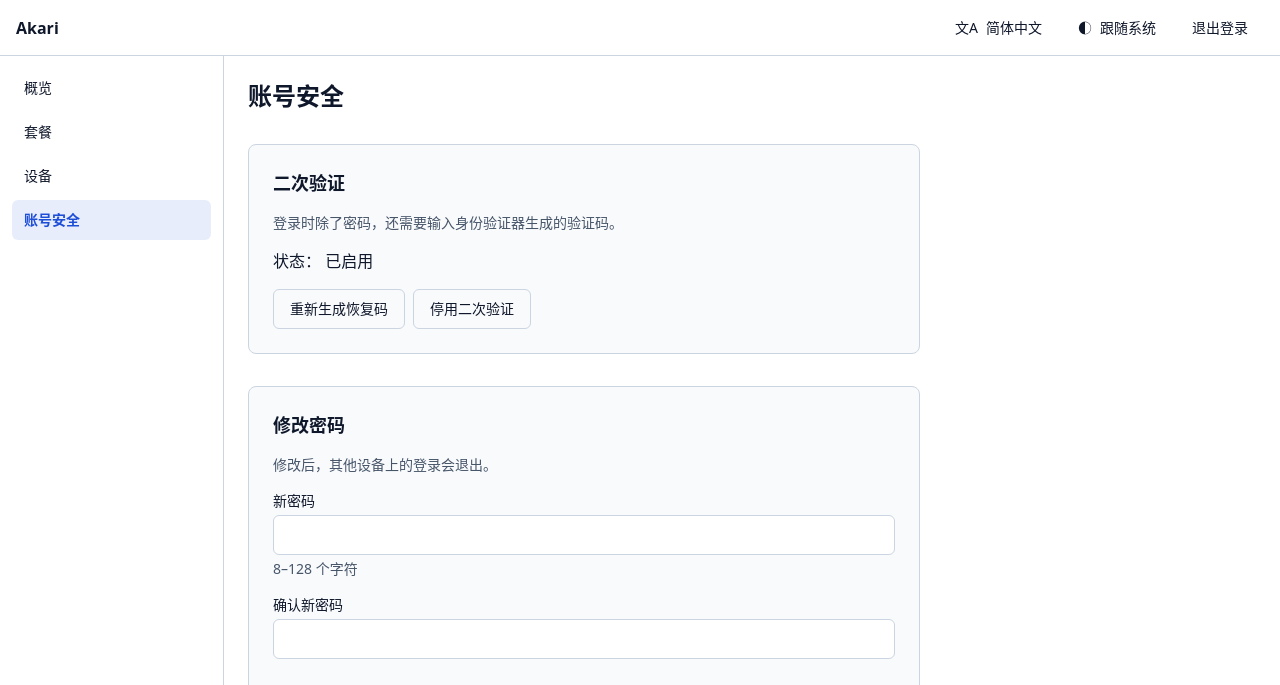
it: 需要重新验证的操作 › 修改密码返回 mfa_required 时弹出验证框，验证后自动重试
Type "new-correct-horse" into the password field labelled "新密码" at (584, 535), box [273,515,895,555]
Type "new-correct-horse" into the password field labelled "确认新密码" at (584, 639), box [273,619,895,659]
(page scrolled)
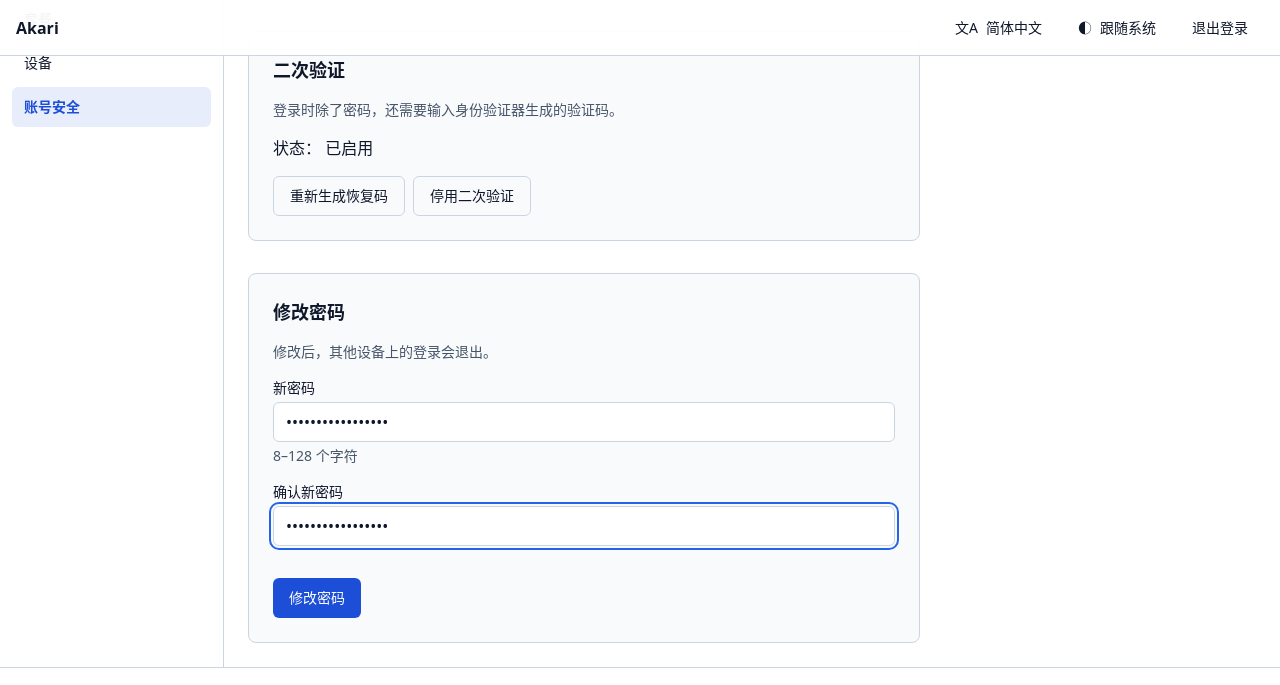
Click the button "修改密码" at (317, 598), box [273,578,361,618]
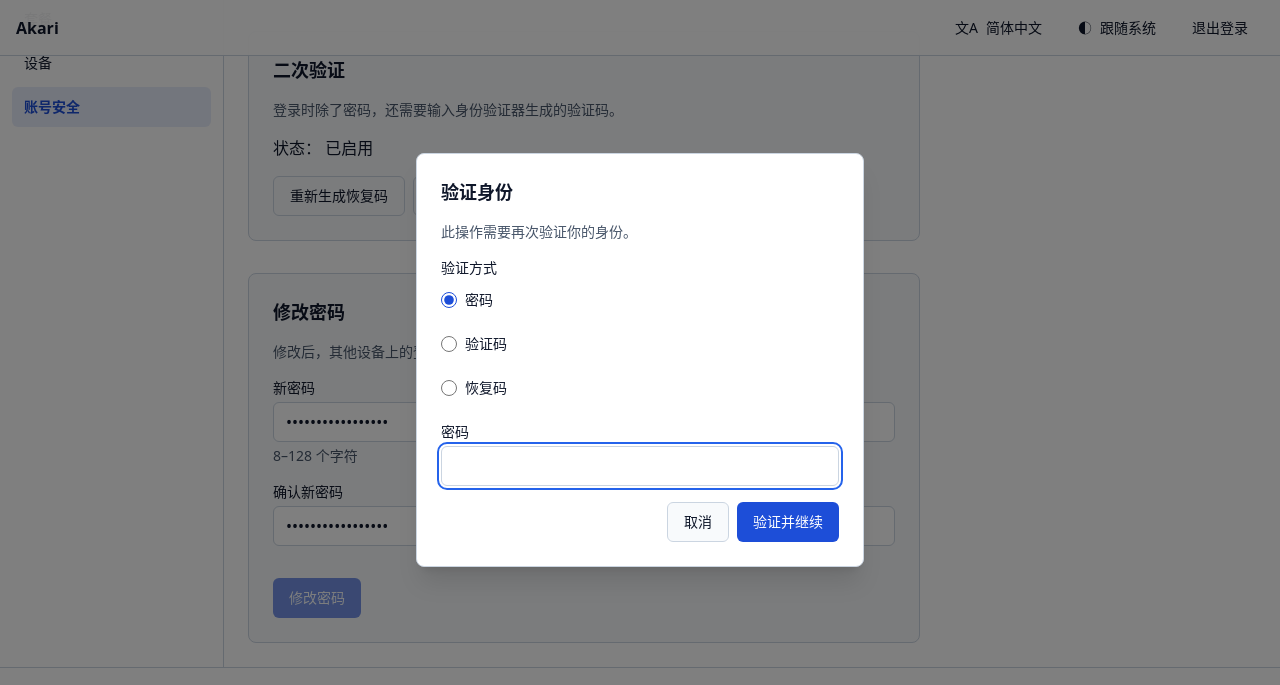
Type "wrong" into the password field labelled "密码" at (640, 466), box [441,446,839,486]
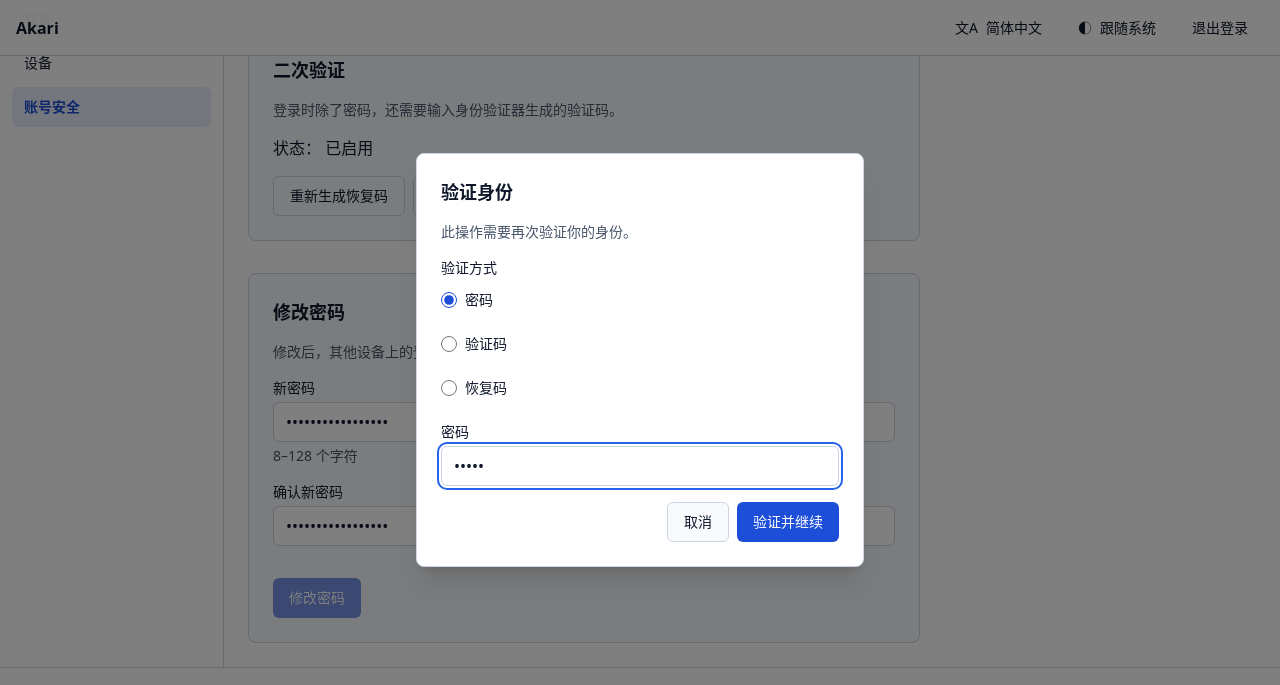
Click the button "验证并继续" at (788, 522), box [737,502,839,542]
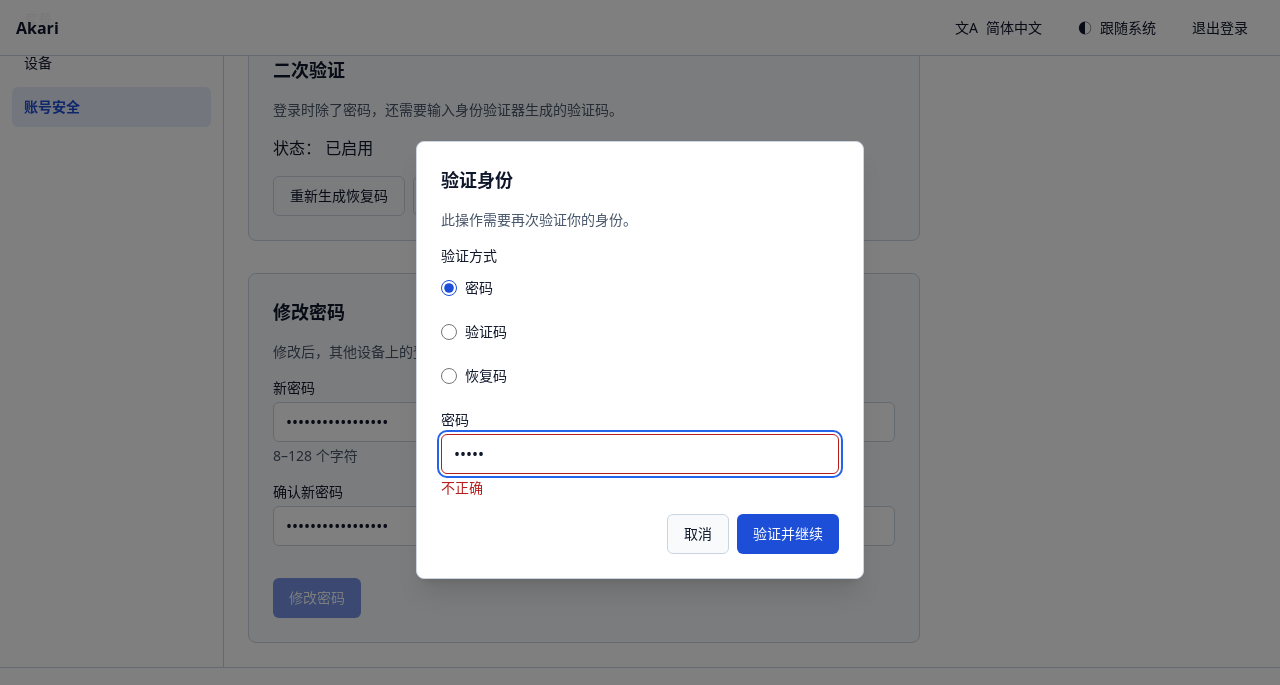
Type "correct-horse" into the password field labelled "密码" at (640, 454), box [441,434,839,474]
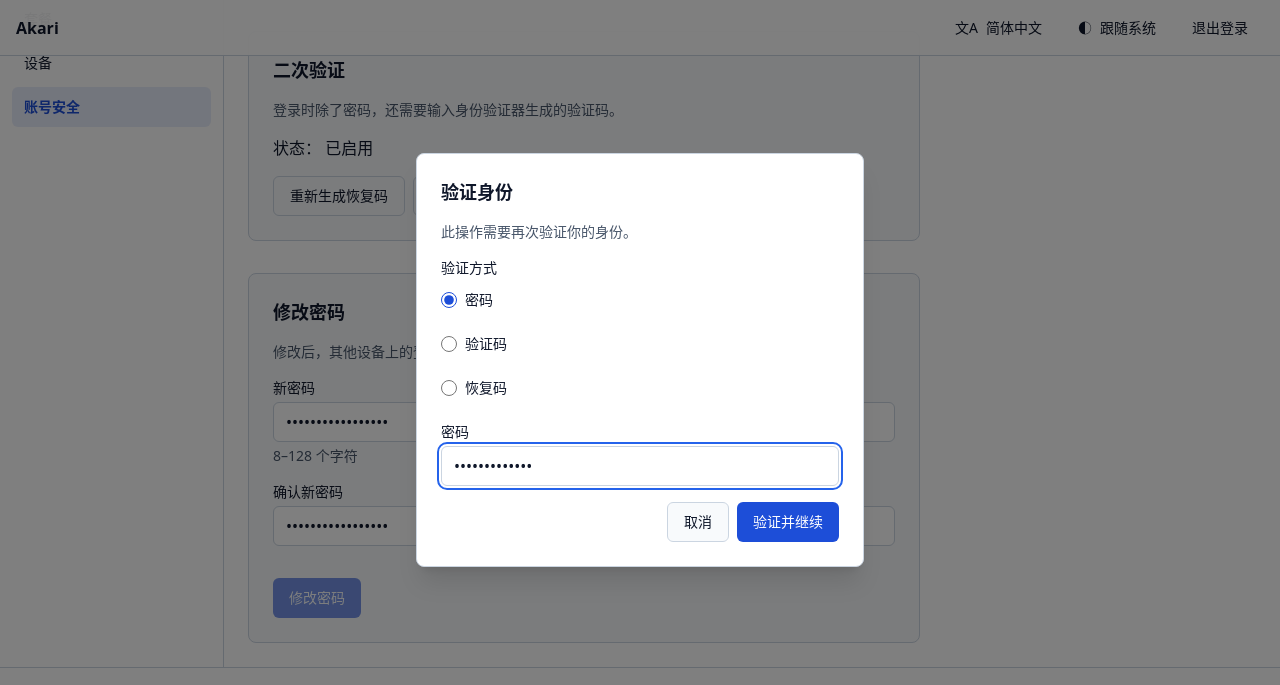
Click the button "验证并继续" at (788, 522), box [737,502,839,542]
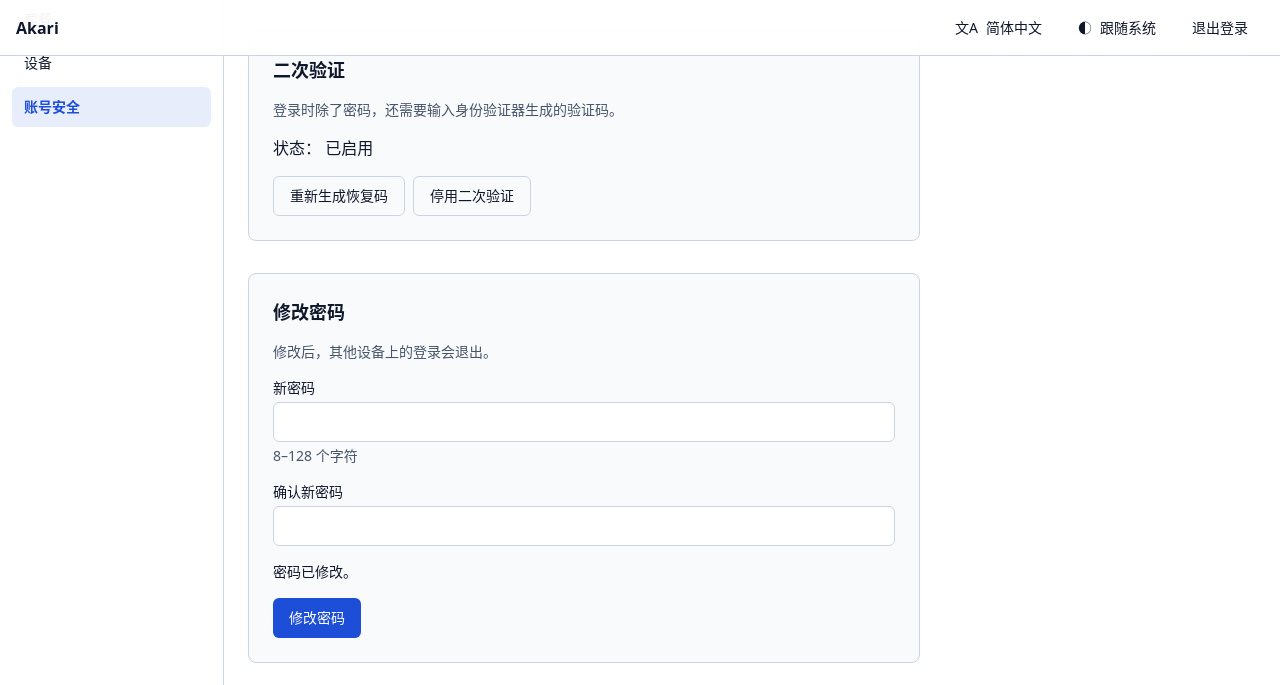
expect the text "密码已修改。" is shown: met, box [273,562,357,581]
expect the dialog is gone: met
